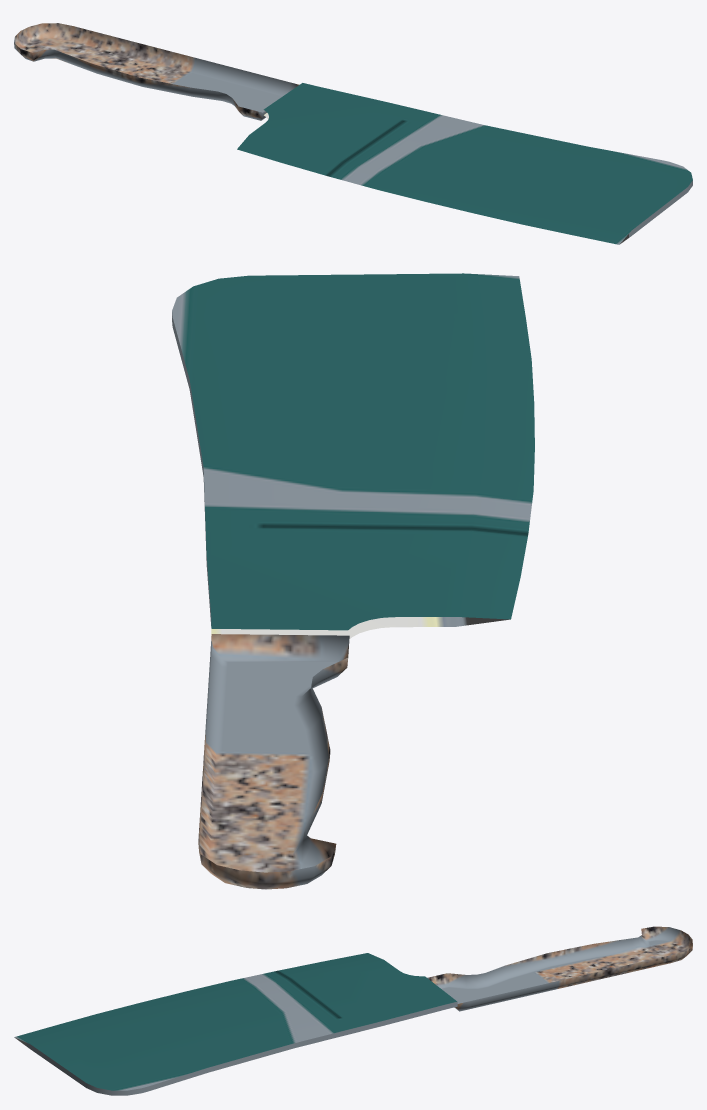
The model's file is KitchenKnife.fbx.
The picture shows the model from 3 angles, top to bottom: view 1: azimuth 30°, elevation 25°; view 2: azimuth 150°, elevation 25°; view 3: azimuth 270°, elevation 25°; orthographic projection. The views are drawn at different scales.
Visible parts, largest first — view 1: SM_Knife_08_Utensils_0.001; view 2: SM_Knife_08_Utensils_0.001; view 3: SM_Knife_08_Utensils_0.001.
Boxes of the visible parts, x1,y1,x2,y2 form: SM_Knife_08_Utensils_0.001: (14,23,692,244); SM_Knife_08_Utensils_0.001: (172,273,534,889); SM_Knife_08_Utensils_0.001: (14,926,692,1095).
Size of the model in its own units: 2027 by 121 by 3489.
